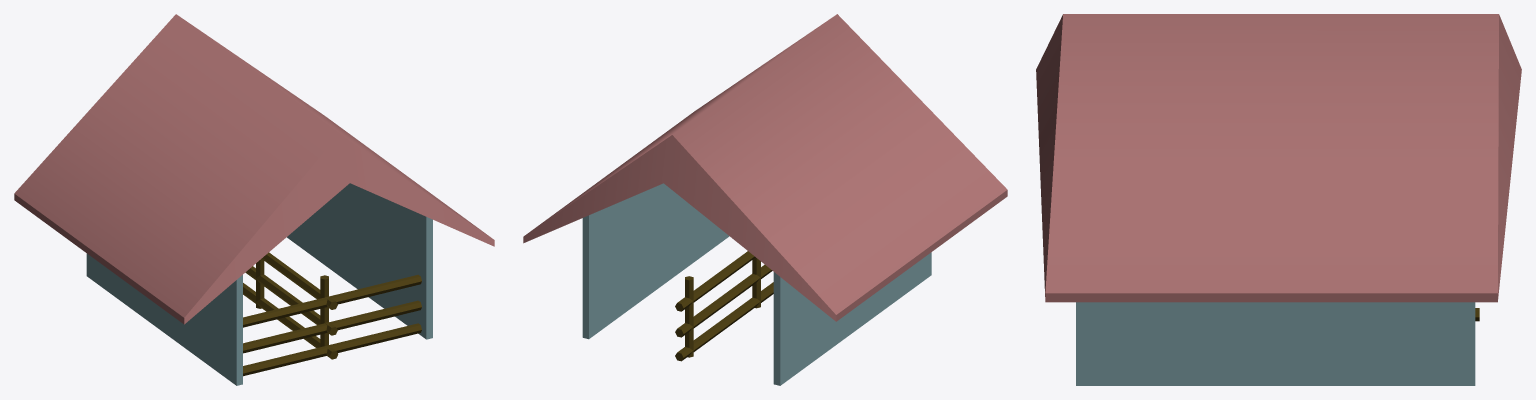
File: house1colorcode.fbx
3 views of the same model, side by side, from view 1: azimuth 30°, elevation 25°; view 2: azimuth 150°, elevation 25°; view 3: azimuth 270°, elevation 25° (orthographic). The views are drawn at different scales.
Visible parts, largest first — view 1: polySurface1, polySurface2, polySurface21, polySurface8; view 2: polySurface1, polySurface2, polySurface8, polySurface21; view 3: polySurface1, polySurface2.
Boxes of the visible parts, x1,y1,x2,y2 form: polySurface1: (14,14,494,324); polySurface2: (287,183,432,339); polySurface21: (243,252,421,376); polySurface8: (86,253,242,385); polySurface1: (523,14,1007,321); polySurface2: (582,183,729,339); polySurface8: (773,252,931,385); polySurface21: (675,251,773,361); polySurface1: (1036,14,1521,302); polySurface2: (1076,302,1475,385).
Size of the model in its own units: 9.86 by 7.03 by 10.04.
